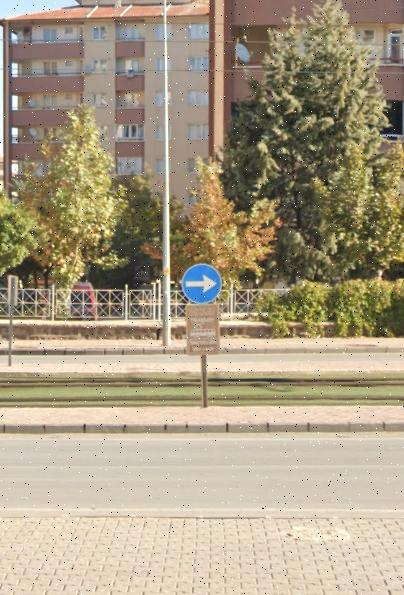turnright: (182, 264, 222, 306)
